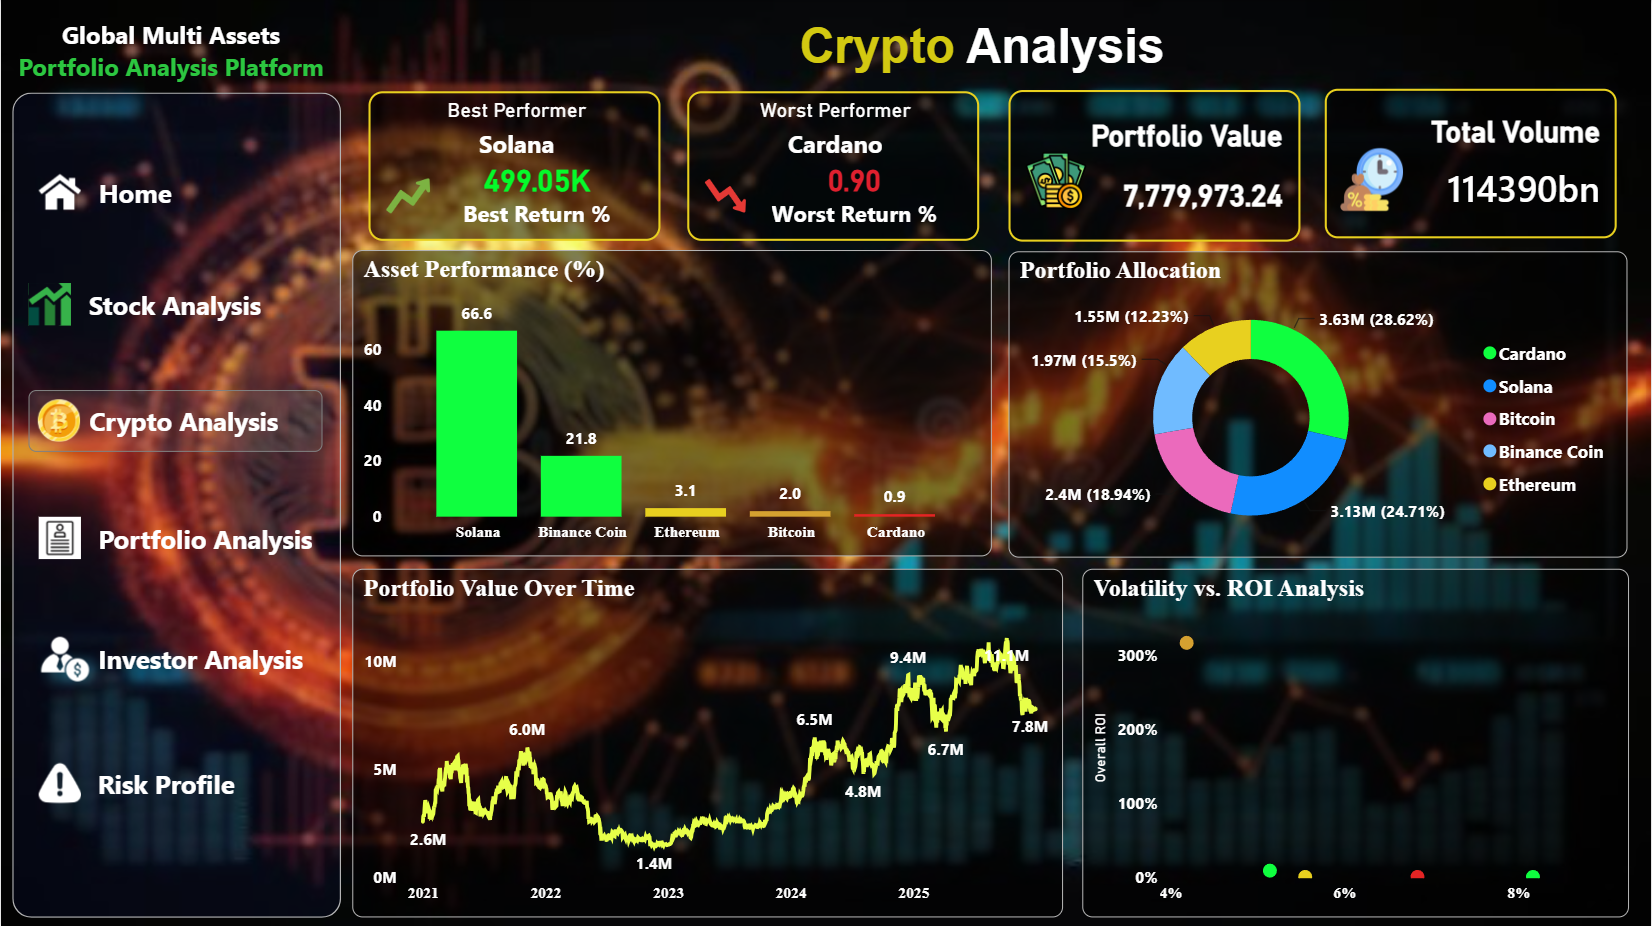

Layout of this report page (visuals, bound fields, positions):
{"tool":"powerbi","page":{"name":"Crypto Analysis","canvas":[1280,720],"ordinal":2},"visuals":[{"type":"textbox","box":[0,10,263.8,72.5],"z":0},{"type":"shape","box":[8.8,71.2,255,640],"z":1000},{"type":"group","id":"g1","title":"Group 2","box":[284.9,69,967.7,118.2],"z":2000},{"type":"actionButton","box":[25,125,111.2,47.5],"z":2000,"group":"g2"},{"type":"cardVisual","fields":{"Data":["Measure.Portfolio Value"]},"box":[781.4,69.8,226.7,117.4],"z":3000,"group":"g1"},{"type":"clusteredColumnChart","title":"Asset Performance (%)","fields":{"Category":["Dim_Assets.AssetName"],"Y":["Measure.Return %"]},"box":[272.3,194.3,495.7,238],"z":3000},{"type":"actionButton","box":[21.7,302.7,228.1,48],"z":3000,"group":"g2"},{"type":"cardVisual","title":"Best Performer","fields":{"Data":["Measure.Best Return %"]},"box":[284.9,70.9,226.7,116.3],"z":4000,"group":"g1"},{"type":"donutChart","title":"Portfolio Allocation","fields":{"Category":["Dim_Assets.AssetName"],"Y":["Measure.Total Investment"]},"box":[781.7,194.5,480.3,237.7],"z":4000},{"type":"cardVisual","title":"Worst Performer","fields":{"Data":["Measure.Worst Return %"]},"box":[532.2,70.8,226.6,116.4],"z":5000,"group":"g1"},{"type":"actionButton","box":[17.7,212,234.9,47.8],"z":5000,"group":"g2"},{"type":"lineChart","title":"Portfolio Value Over Time","fields":{"Category":["Dim_Date.Date.Variation.Date Hierarchy.Year","Dim_Date.Date.Variation.Date Hierarchy.Quarter","Dim_Date.Date.Variation.Date Hierarchy.Month","Dim_Date.Date.Variation.Date Hierarchy.Day"],"Y":["Measure.Portfolio Value"]},"box":[272.6,440.7,551.1,270.2],"z":5000},{"type":"cardVisual","title":" ","fields":{"Data":["Measure.Total Crypto Volume"]},"box":[1026,69,226.6,116.4],"z":6000,"group":"g1"},{"type":"actionButton","box":[25,393.9,220.3,46.8],"z":6000,"group":"g2"},{"type":"scatterChart","title":"Volatility vs. ROI Analysis","fields":{"Category":["Dim_Assets.AssetName"],"X":["Measure.Daily Volatile %"],"Y":["Measure.Overall ROI"]},"box":[838.1,440.7,423.9,270.2],"z":6000},{"type":"group","id":"g2","title":"Group 1","box":[17.7,125,234.9,504.8],"z":7000},{"type":"textbox","box":[595.4,9.3,331.4,54.7],"z":8000},{"type":"actionButton","box":[25,486.4,213,46.8],"z":8000,"group":"g2"},{"type":"actionButton","box":[25,583,160,46.8],"z":10000,"group":"g2"}]}

Visuals, with their boxes in screenshot pixels (x1, y1, x2, y2), scaled from the page's 1280x720 canvas onto the 1652x926 screenshot:
textbox: bbox(0, 13, 340, 106)
shape: bbox(11, 92, 340, 915)
"Group 2" group: bbox(368, 89, 1617, 241)
actionButton: bbox(32, 161, 176, 222)
cardVisual - Measure.Portfolio Value: bbox(1008, 90, 1301, 241)
"Asset Performance (%)" clusteredColumnChart: bbox(351, 250, 991, 556)
actionButton: bbox(28, 389, 322, 451)
"Best Performer" cardVisual: bbox(368, 91, 660, 241)
"Portfolio Allocation" donutChart: bbox(1009, 250, 1629, 556)
"Worst Performer" cardVisual: bbox(687, 91, 979, 241)
actionButton: bbox(23, 273, 326, 334)
"Portfolio Value Over Time" lineChart: bbox(352, 567, 1063, 914)
" " cardVisual: bbox(1324, 89, 1617, 238)
actionButton: bbox(32, 507, 317, 567)
"Volatility vs. ROI Analysis" scatterChart: bbox(1082, 567, 1629, 914)
"Group 1" group: bbox(23, 161, 326, 810)
textbox: bbox(768, 12, 1196, 82)
actionButton: bbox(32, 626, 307, 686)
actionButton: bbox(32, 750, 239, 810)
